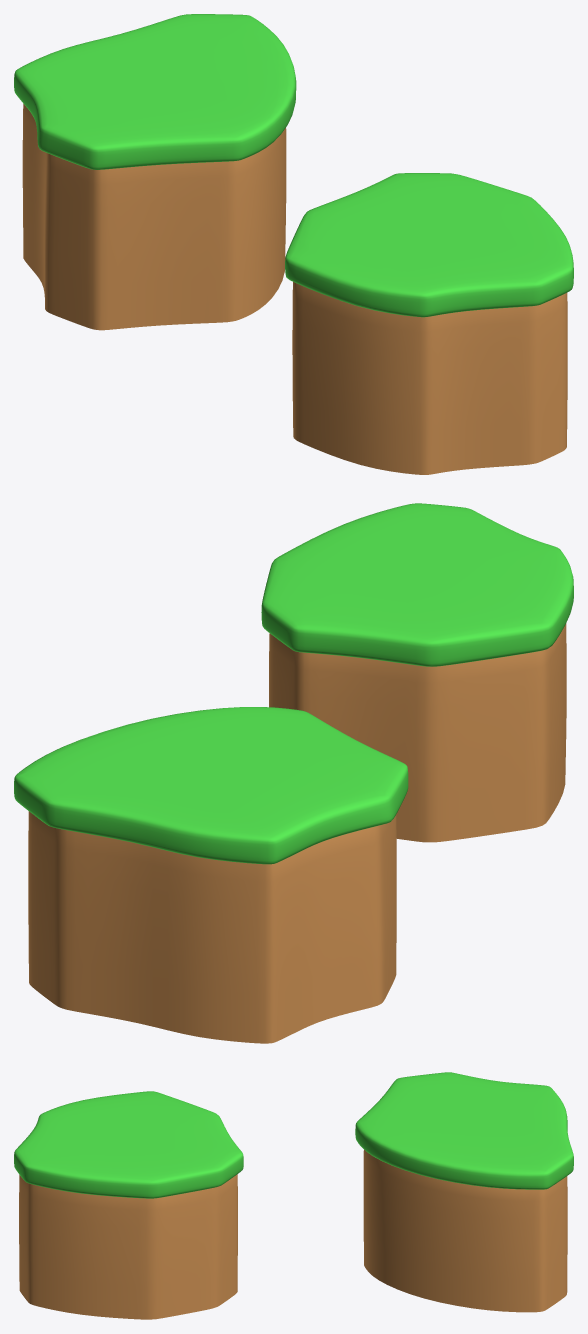
Rendered from DOBLE.fbx.
3 views of the same model, one above another, from view 1: azimuth 30°, elevation 25°; view 2: azimuth 150°, elevation 25°; view 3: azimuth 270°, elevation 25° (orthographic). The views are drawn at different scales.
Parts seen in each view (by area): view 1: Plane.013, Plane.039, Plane.010, Plane.038; view 2: Plane.039, Plane.010, Plane.038, Plane.013; view 3: Plane.013, Plane.039, Plane.010, Plane.038.
Part boxes in pixels (x1,y1,x2,y2): Plane.013: (292,282,567,474); Plane.039: (22,104,286,330); Plane.010: (14,14,296,169); Plane.038: (285,173,573,317); Plane.039: (28,811,396,1043); Plane.010: (14,707,408,864); Plane.038: (261,503,573,666); Plane.013: (269,623,566,842); Plane.013: (19,1174,237,1319); Plane.039: (363,1150,567,1312); Plane.010: (355,1072,573,1189); Plane.038: (14,1091,243,1198).
Bounding box in the file's own units: 1103 × 663 × 2332.
